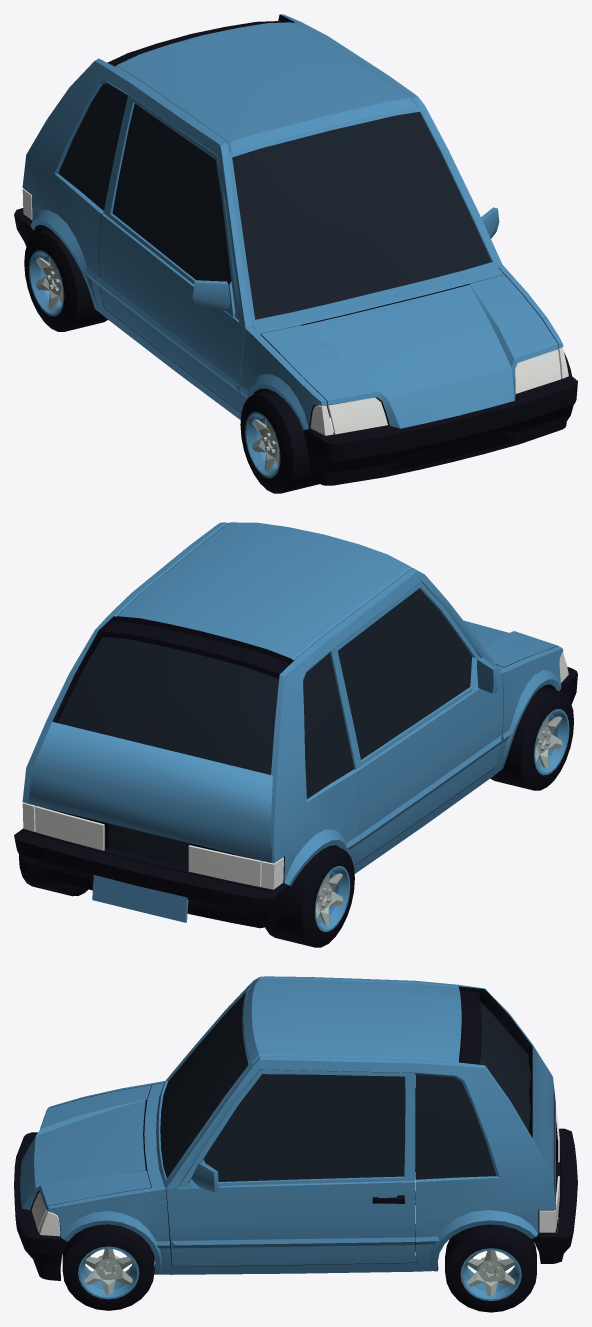
The model's file is car1.fbx.
3 views of the same model, one above another, from view 1: azimuth 30°, elevation 25°; view 2: azimuth 150°, elevation 25°; view 3: azimuth 270°, elevation 25° (orthographic). The views are drawn at different scales.
Visible parts, largest first — view 1: Car 1; view 2: Car 1; view 3: Car 1.
Boxes of the visible parts, x1,y1,x2,y2 form: Car 1: [14, 14, 577, 493]; Car 1: [14, 522, 577, 947]; Car 1: [14, 976, 577, 1312].
Bounding box in the file's own units: 114 × 99.74 × 210.
Materials: 1 (1 with a texture image).
